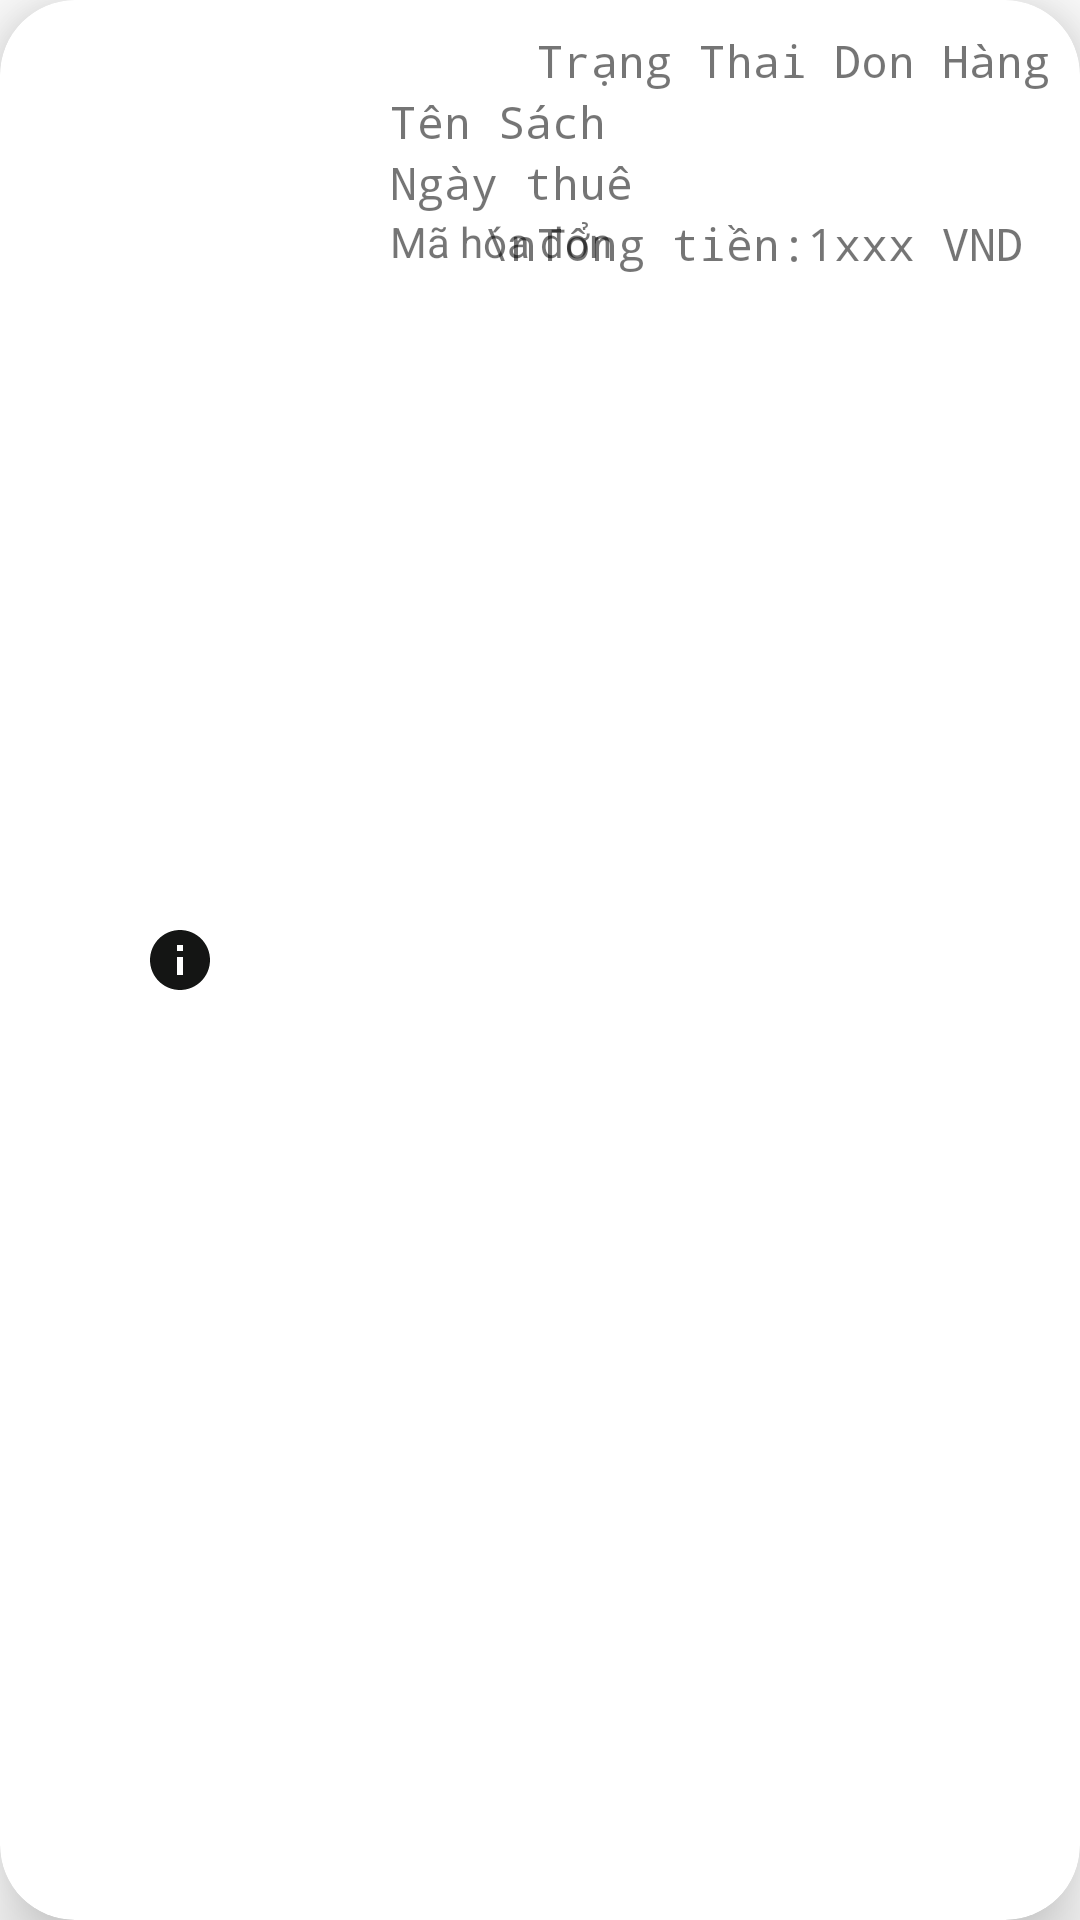

Locate icon controls on the screen. Image size 1080×1920, boxes as (x1, y1, x2, y2).
info: (150, 930, 210, 990)
